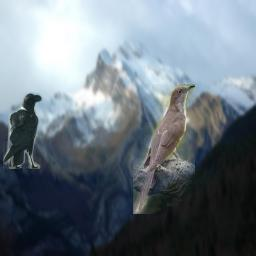Crow: (3, 92, 43, 169)
Cuckoo: (133, 84, 195, 214)
